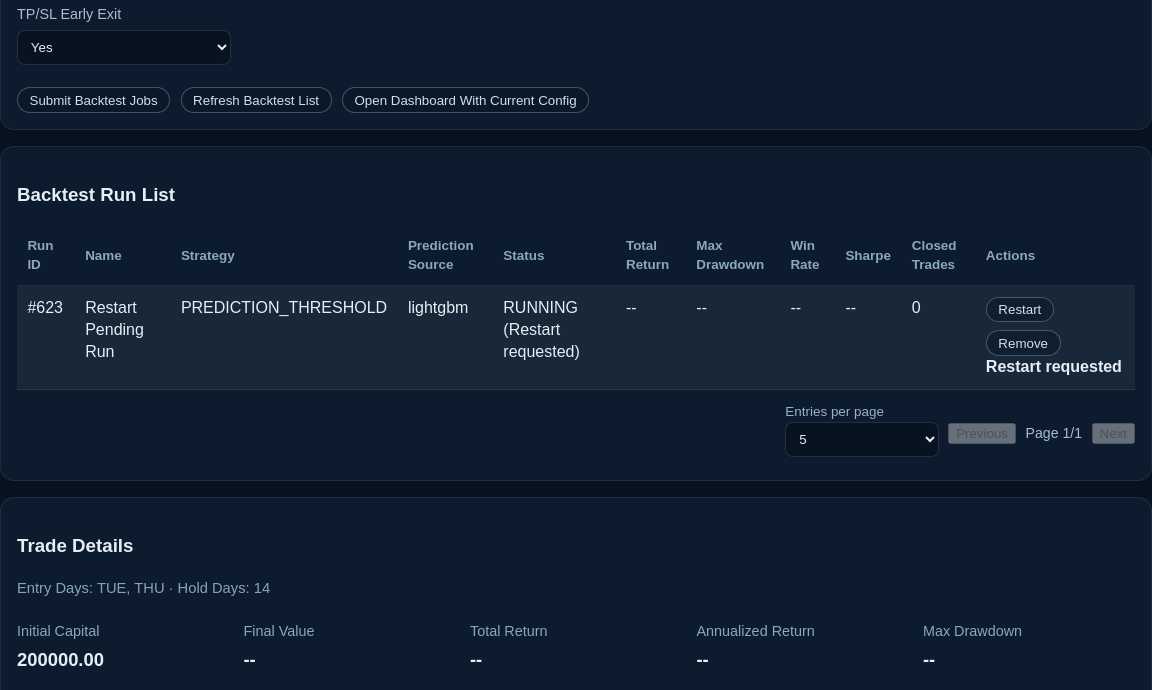
Test: BacktestWorkbenchPage runner controls › removes a run even when restart is already pending
The image size is (1152, 690).
(page scrolled)
Expected: the text "Restart Pending Run" is shown, [75,286,170,390]
Click the button "Remove". click: (1023, 343)
box: [986,330,1060,356]
(page scrolled)
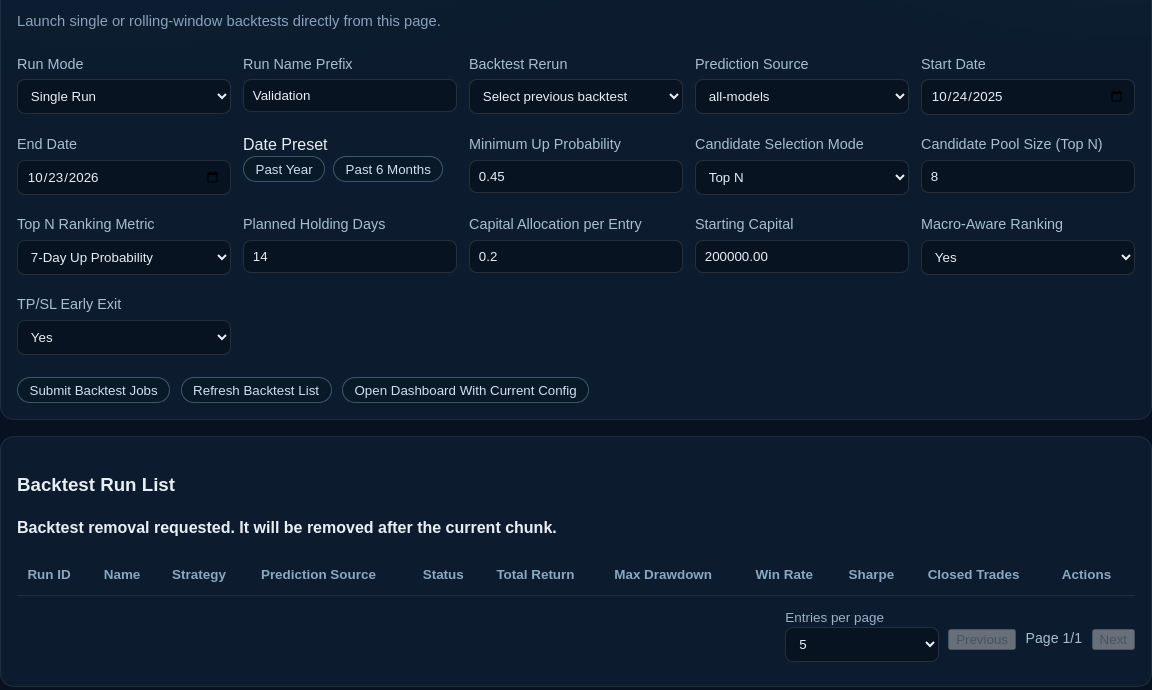
Expected: the text "Backtest removal requested. It will be removed after the current chunk." is shown, [17,519,557,536]
